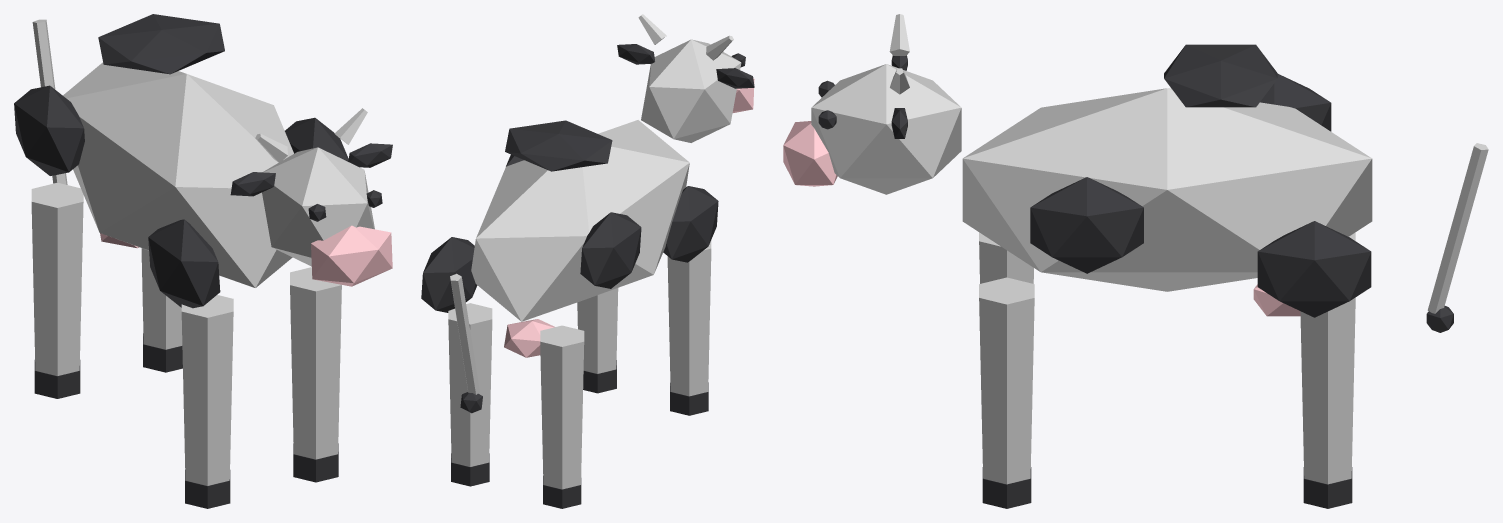
The model's file is ushi.glb.
3 views of the same model, side by side, from view 1: azimuth 30°, elevation 25°; view 2: azimuth 150°, elevation 25°; view 3: azimuth 270°, elevation 25° (orthographic). The views are drawn at different scales.
Parts seen in each view (by area): view 1: ushi; view 2: ushi; view 3: ushi.
Boxes of the visible parts, x1=… form: ushi: x1=14, y1=14, x2=392, y2=508; ushi: x1=421, y1=14, x2=754, y2=508; ushi: x1=783, y1=14, x2=1488, y2=508.
Bounding box in the file's own units: 1.04 × 1.77 × 2.64.
